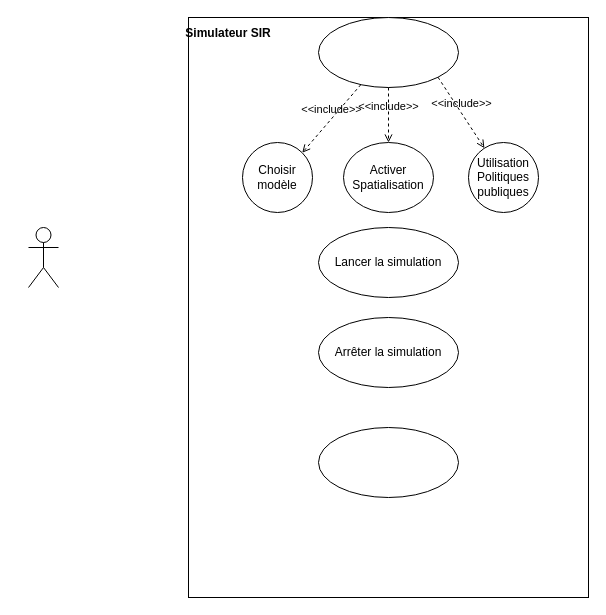
The diagram is 606 pixels wide and 615 high, and some of its shapes have lost their labels. The centre of each missing label's shape, as x and y in pixels:
Modifier les paramètres: (388,52)
Utilisateur: (43,257)
